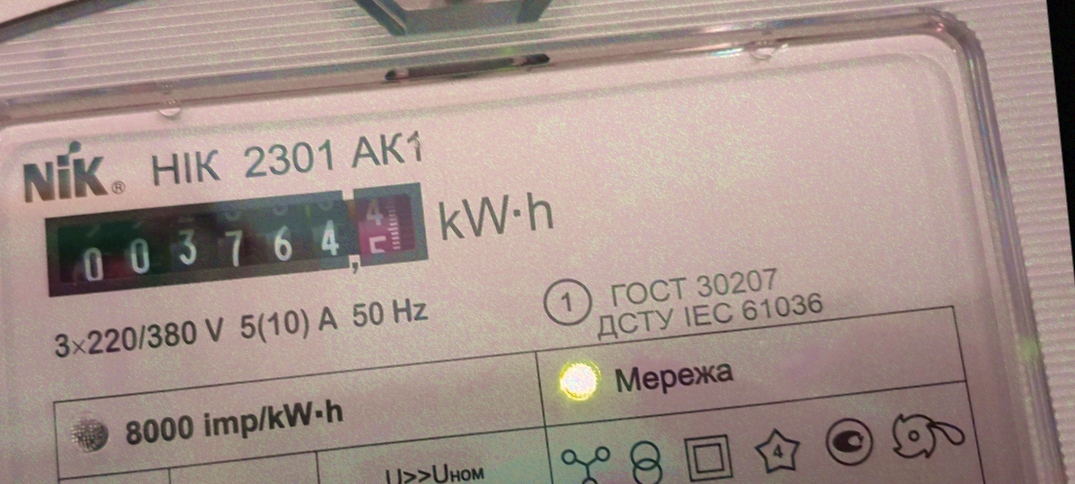0: (78, 243, 106, 283), (125, 235, 151, 276)
3: (173, 226, 199, 267)
4: (317, 217, 340, 258), (361, 194, 386, 228)
5: (365, 232, 389, 256)
6: (270, 222, 294, 263)
7: (221, 225, 248, 269)
screen: (25, 163, 444, 313)
